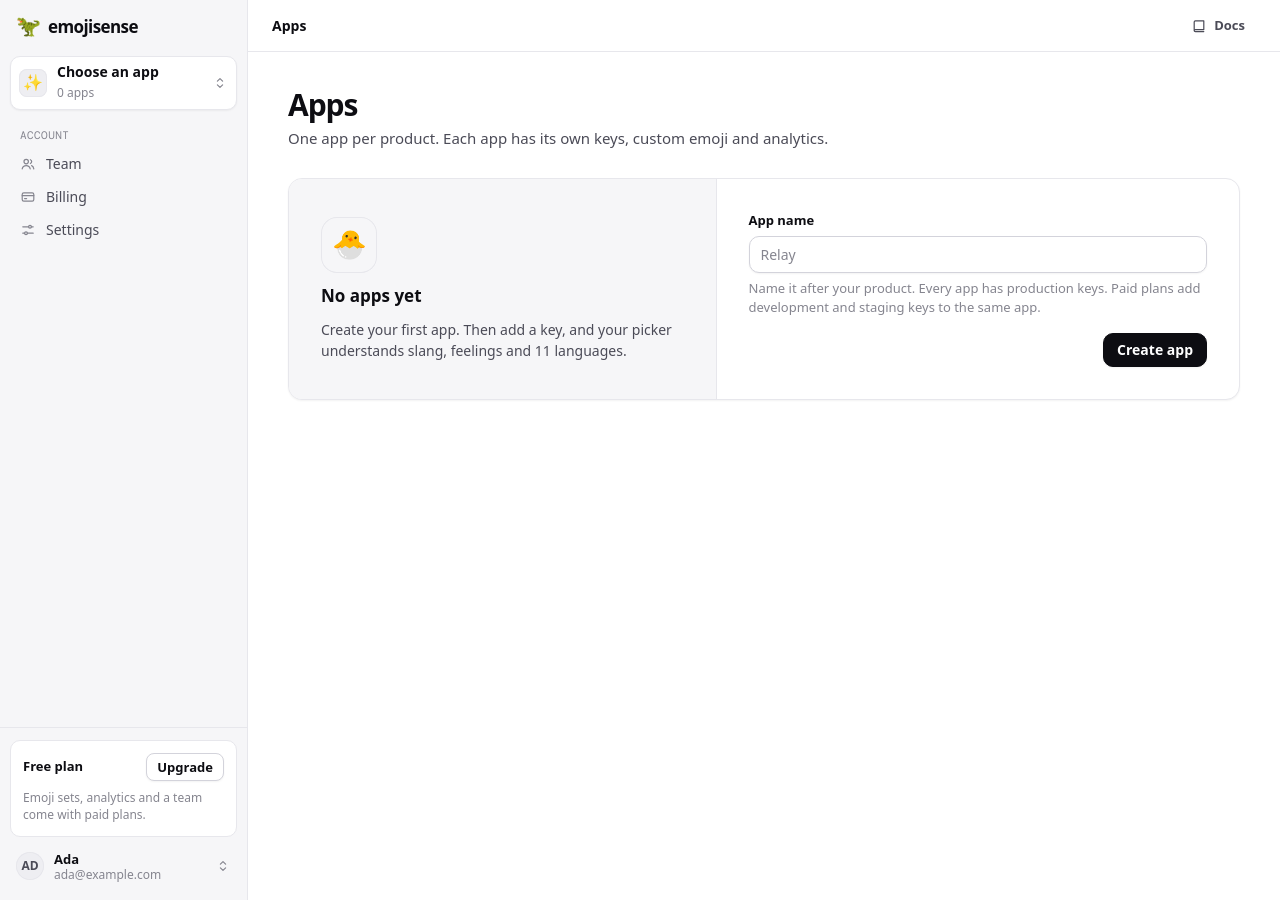
apps page › offers the plan with more apps when the API answers 402
The width and height of the screenshot is (1280, 900).
Type "Second" into the field labelled "App name".
click(978, 254); type("Second")  # box x1=748 y1=236 x2=1207 y2=273
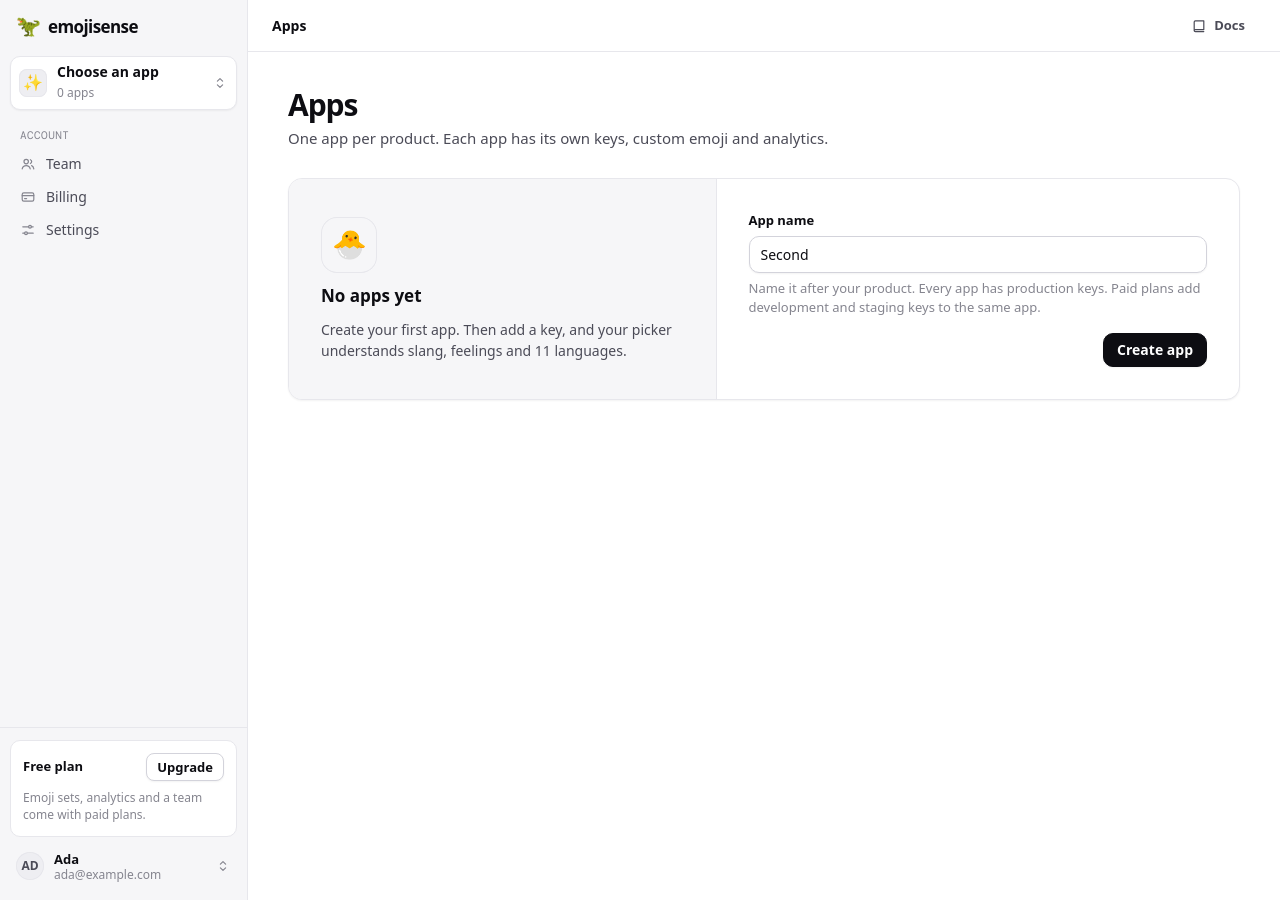
Click the button "Create app".
click(1155, 350)  # box x1=1103 y1=333 x2=1207 y2=367
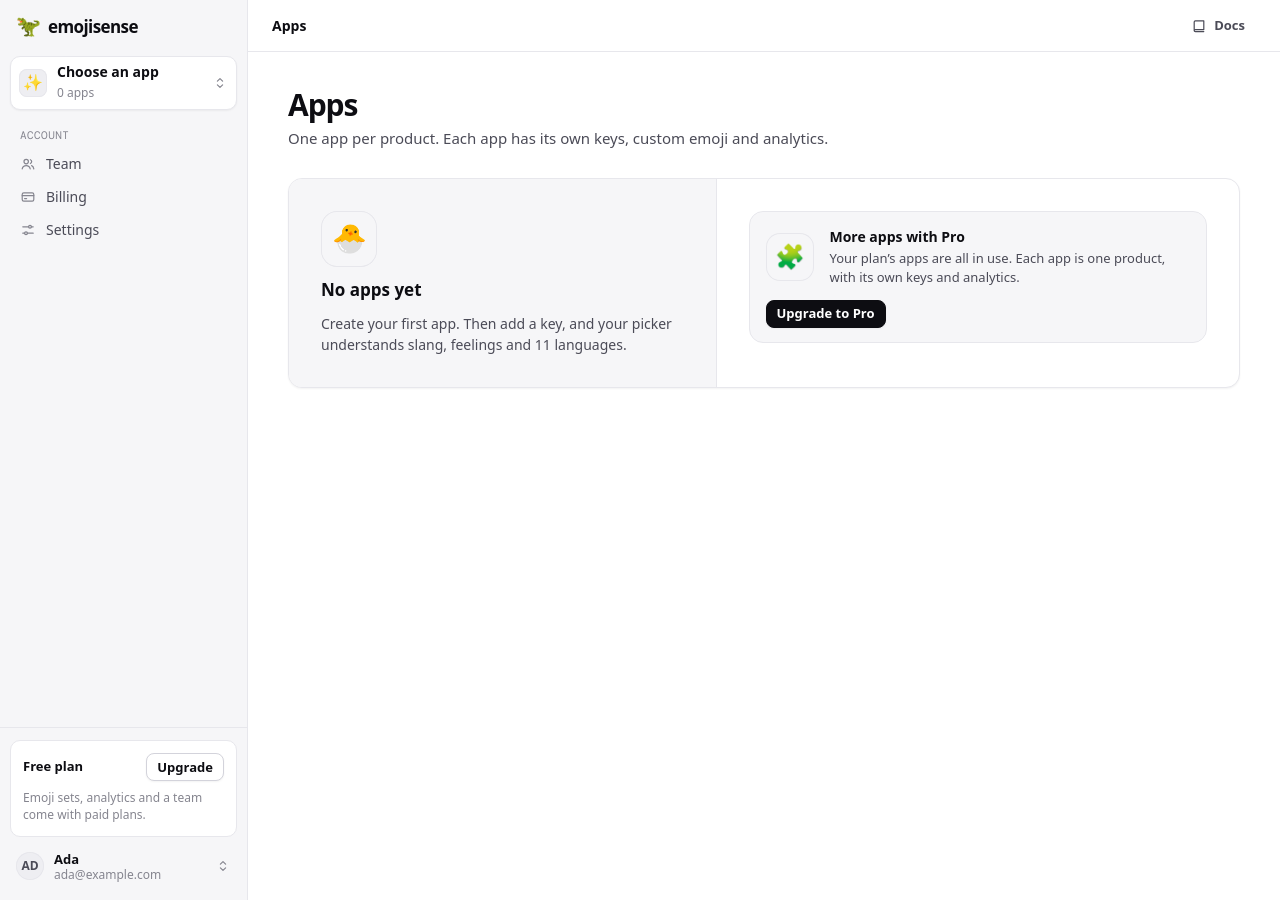
Check: the link "Upgrade to Pro" is shown, box x1=766 y1=300 x2=886 y2=328
